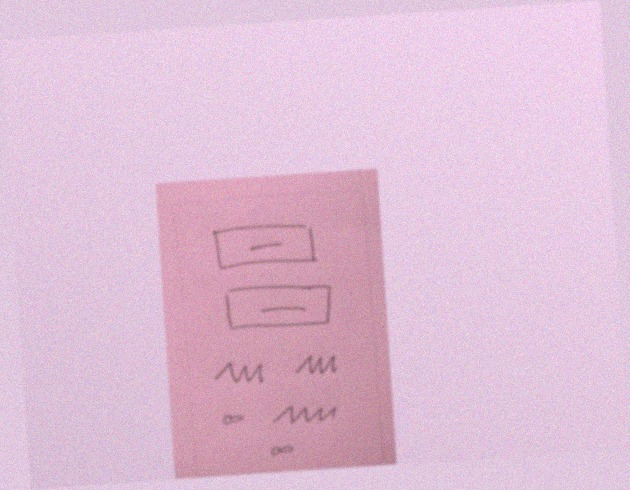button: (217, 275, 342, 339), (208, 218, 330, 276)
switch: (265, 441, 301, 462), (219, 410, 251, 430)
text: (269, 398, 344, 431), (209, 356, 273, 393), (291, 349, 347, 379)
